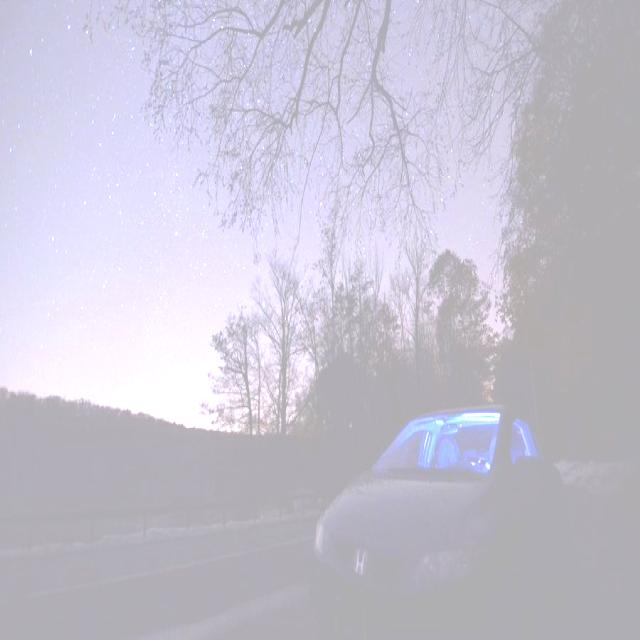Car: (311, 411, 565, 640)
